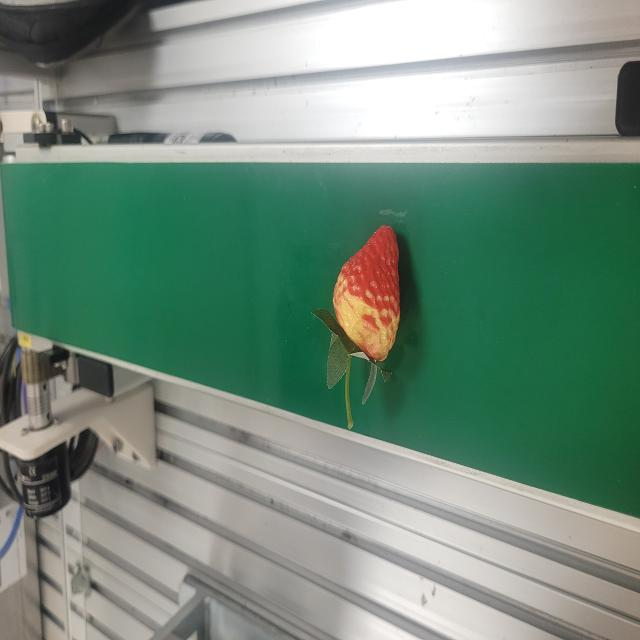Moldy Strawberry: (332, 221, 402, 363)
